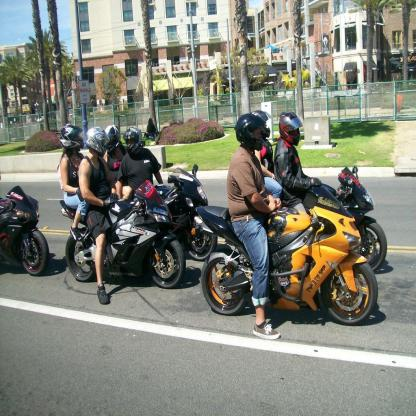Helmet: (234, 112, 264, 154), (282, 112, 308, 150), (85, 125, 110, 157), (60, 124, 84, 152), (122, 126, 144, 156), (251, 110, 273, 136), (104, 124, 121, 152)
